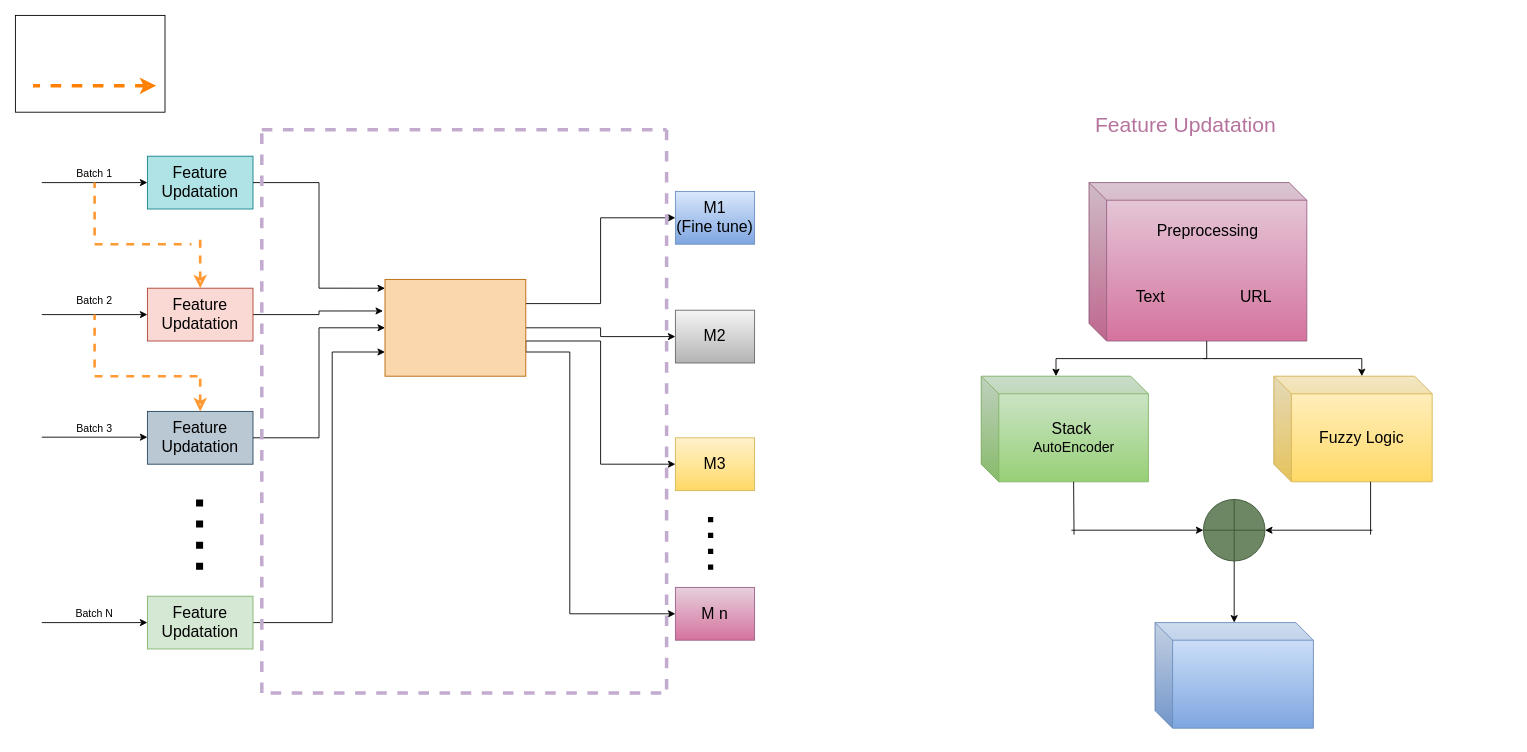
Some shapes in this 1527 by 752 pixel diagram are drawn without their labels. Each missing label, with the centre of its shape:
Data Augmentation: the point at 90,63
Feature Concatenation: the point at 1233,675
Neural Network: the point at 455,327
